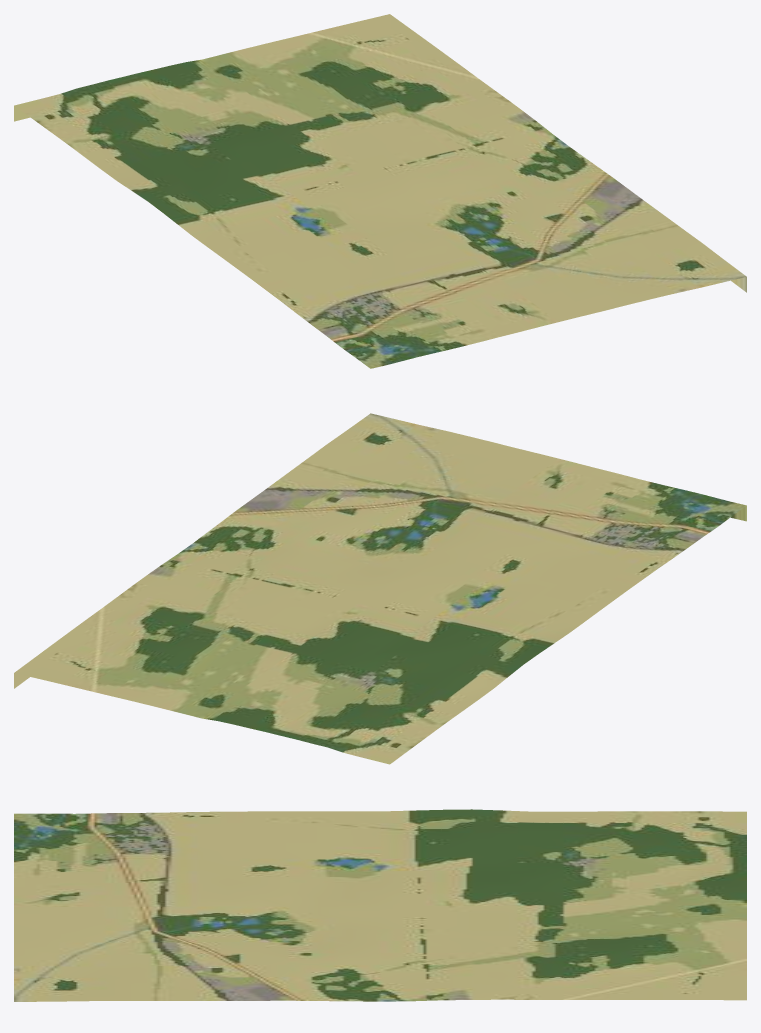
3 renders of one model, top to bottom at view 1: azimuth 30°, elevation 25°; view 2: azimuth 150°, elevation 25°; view 3: azimuth 270°, elevation 25°, orthographic. The views are drawn at different scales.
Bounding box in the file's own units: 2977 × 156 × 4891.
Materials: 1 (1 with a texture image).
